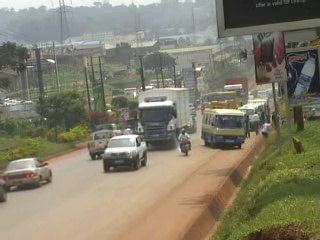Car: (2, 156, 56, 190), (122, 117, 142, 135), (0, 179, 10, 205)
Motorcycle: (176, 128, 192, 158), (123, 125, 134, 139)
